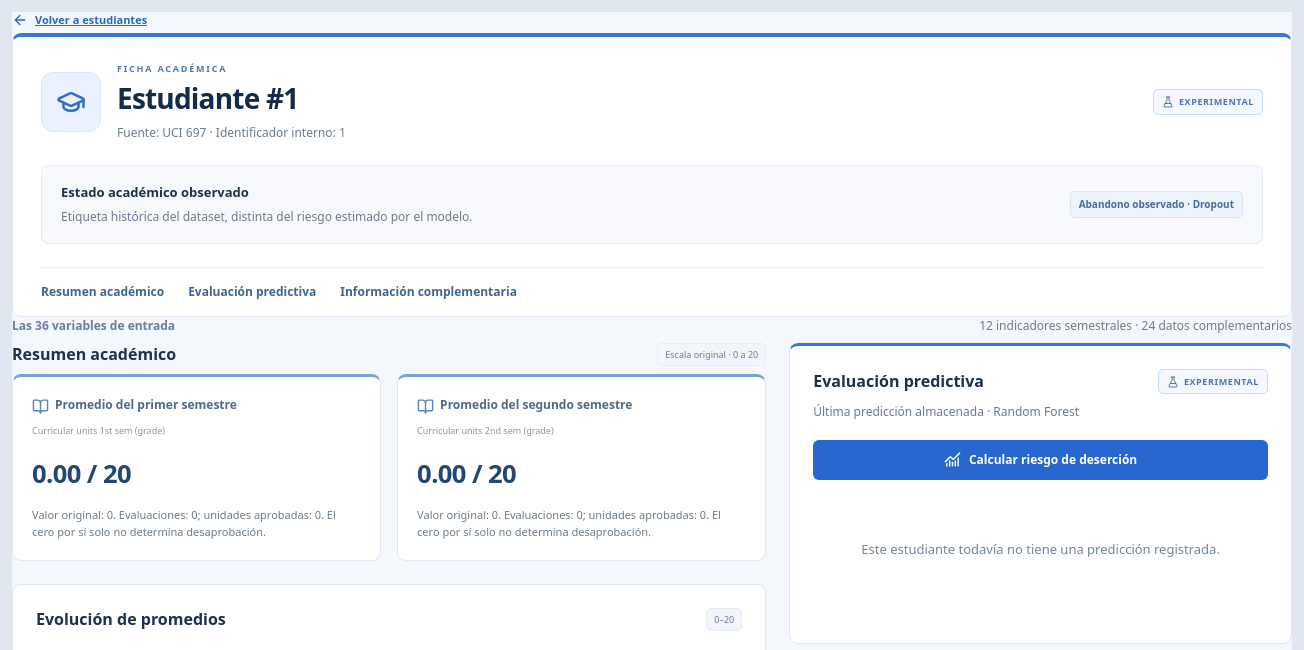
semáforo y persistencia de consultas › ante 503 no crea probabilidad y conserva la ficha disponible
This screenshot has width=1304, height=650.
Expected: the text "Este estudiante todavía no tiene una predicción registrada." is shown, [861,540,1220,558]
Click the button "Calcular riesgo de deserción": coordinates (1041, 460) [813,440,1268,480]
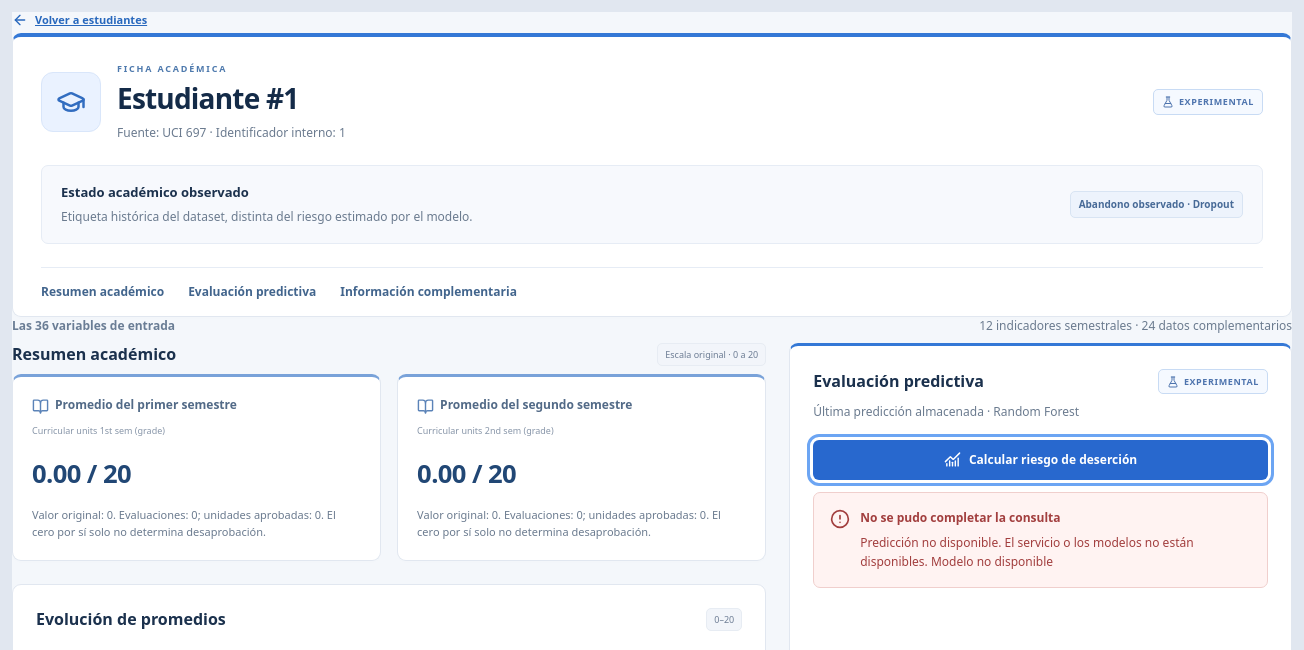
Expected: the heading "Resumen académico" is shown, [12,343,176,366]
Expected: the message shows "Predicción no disponible", [860,534,1194,570]
